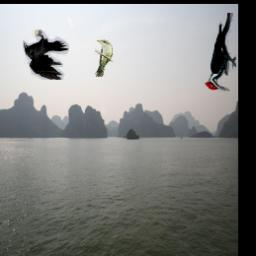Crow: (24, 31, 70, 81)
Cuckoo: (95, 39, 113, 77)
Woodpecker: (205, 13, 236, 92)
